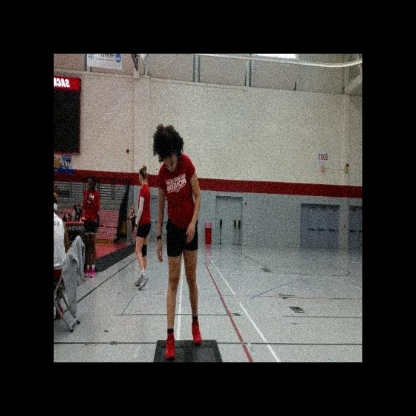lateral_flexion_left: (156, 121, 203, 362)
stance_width_normal: (156, 151, 202, 362)
